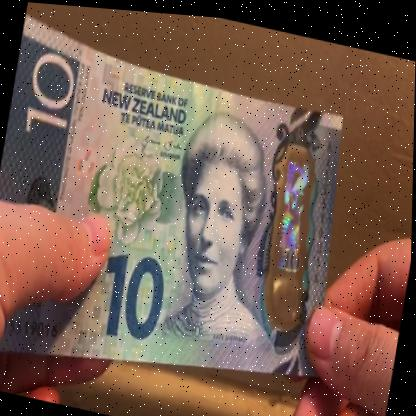10B: (260, 147, 324, 315)
